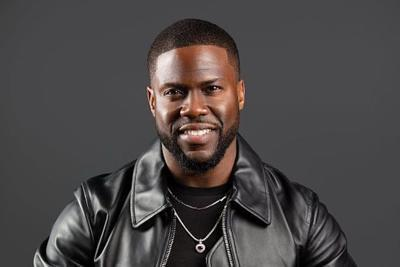Sober: (160, 53, 234, 158)
